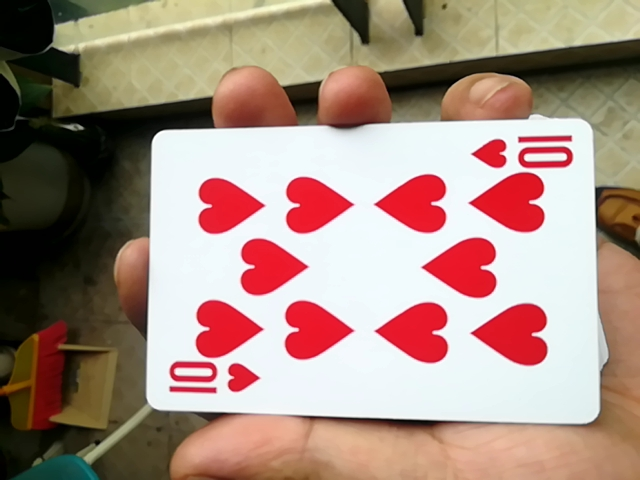hx 10: (134, 122, 590, 433)
